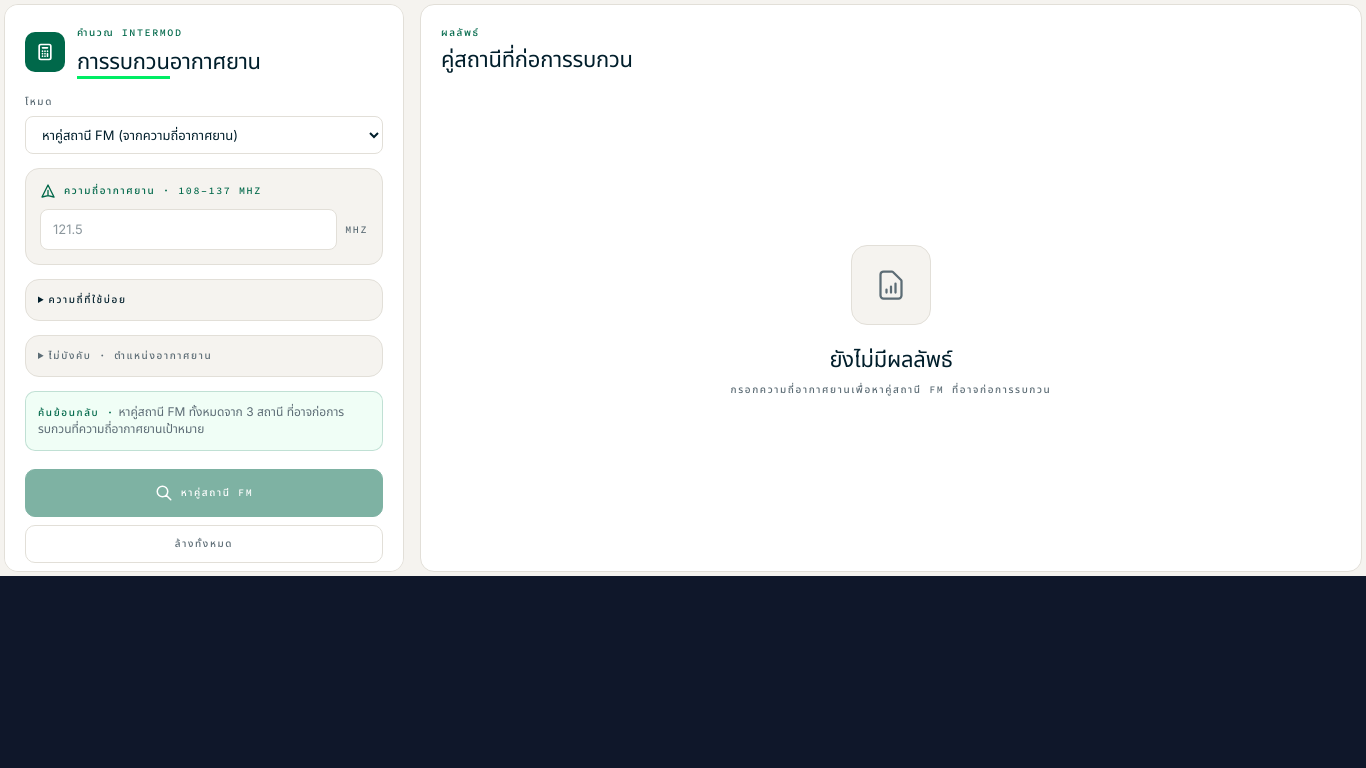
it: IntermodCalculator - Deep Tests › switches back to aircraft-check mode
The width and height of the screenshot is (1366, 768).
Select "ตรวจความถี่ FM สองค่า" in the dropdown at (204, 135), box [25, 116, 383, 154]
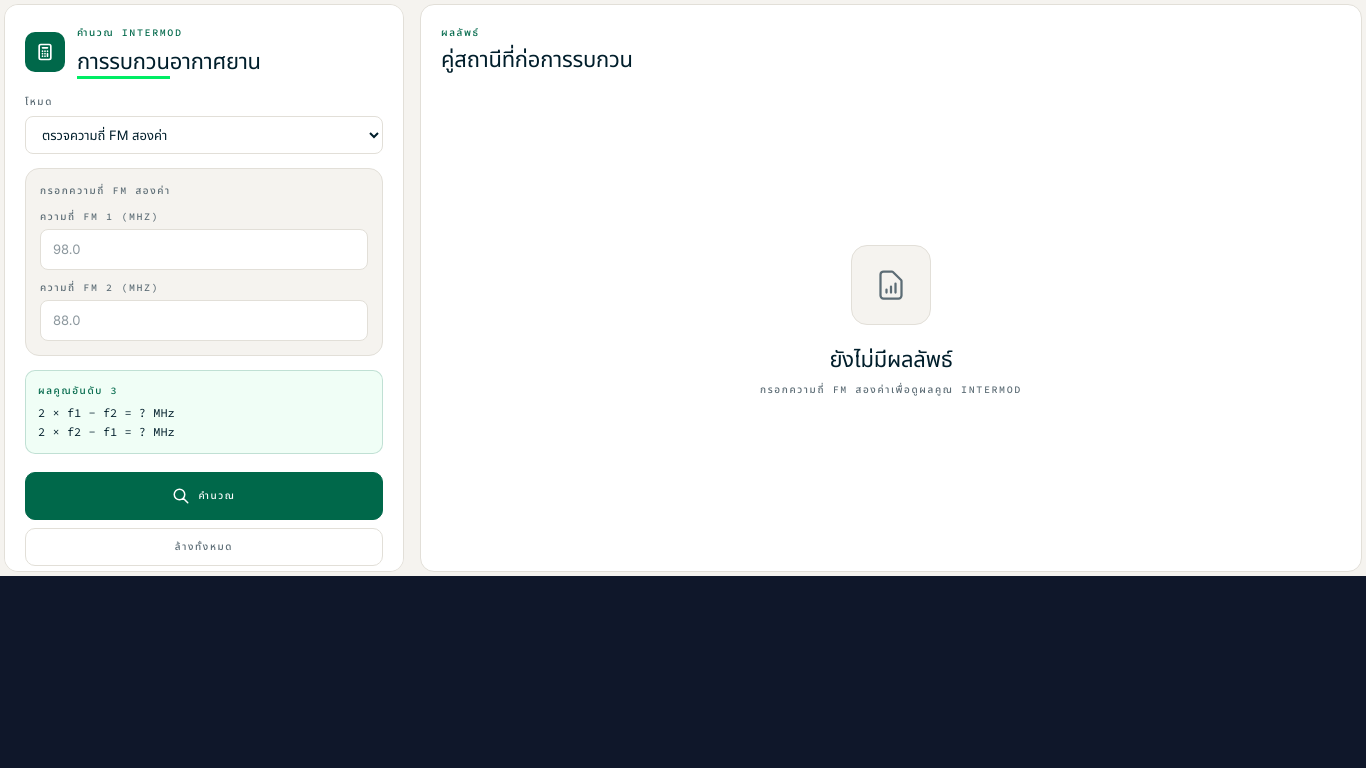
Select "หาคู่สถานี FM (จากความถี่อากาศยาน)" in the dropdown at (204, 135), box [25, 116, 383, 154]
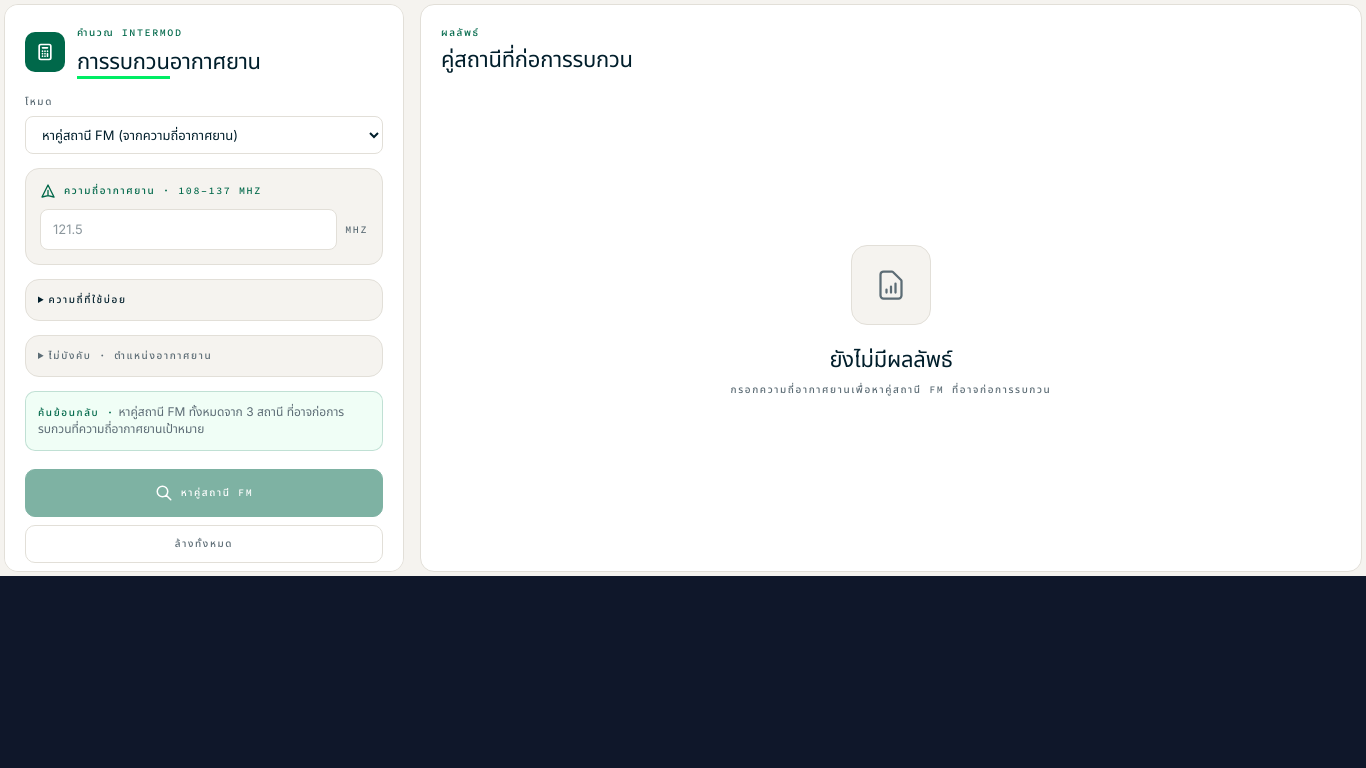
Expected: the text "ความถี่อากาศยาน · 108–137 MHz" is shown, [64, 183, 262, 199]
